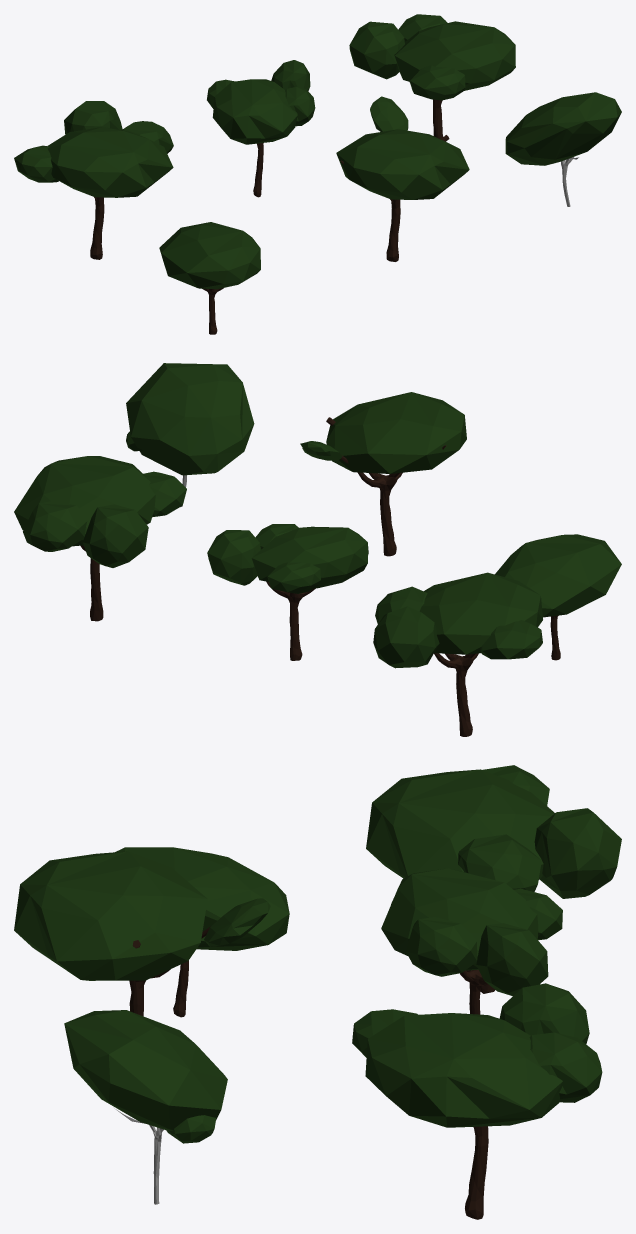
The model's file is Tree_type1_coll.FBX.
3 views of the same model, one above another, from view 1: azimuth 30°, elevation 25°; view 2: azimuth 150°, elevation 25°; view 3: azimuth 270°, elevation 25° (orthographic). The views are drawn at different scales.
Visible parts, largest first — view 1: Group64238, Group64090, Group64166, Group64161, Group64236, Group64155, Group64160, Group64163, Group64087, Group64089, Group64346, Group64157 (+5 smaller); view 2: Group64166, Group64238, Group64090, Group64236, Group64161, Group64155, Group64087, Group64160, Group64162, Group64157, Group64089, Group64156 (+7 smaller); view 3: Group64238, Group64161, Group64090, Group64166, Group64155, Group64236, Group64087, Group64157, Group64160, Group64162, Group64158, Group64088 (+8 smaller).
Part boxes in pixels (x1,y1,x2,y2): Group64238: (336, 129, 469, 199); Group64090: (47, 127, 173, 197); Group64166: (505, 92, 621, 165); Group64161: (394, 21, 515, 90); Group64236: (159, 222, 260, 289); Group64155: (212, 79, 297, 144); Group64160: (349, 21, 404, 79); Group64163: (409, 65, 465, 100); Group64087: (64, 101, 122, 134); Group64089: (14, 145, 58, 182); Group64346: (370, 96, 408, 131); Group64157: (271, 60, 310, 91); Group64166: (126, 363, 254, 475); Group64238: (326, 392, 466, 473); Group64090: (419, 572, 542, 654); Group64236: (495, 534, 621, 617); Group64161: (14, 456, 155, 546); Group64155: (251, 526, 368, 588); Group64087: (373, 606, 439, 668); Group64160: (82, 504, 148, 567); Group64162: (23, 500, 87, 551); Group64157: (207, 530, 261, 585); Group64089: (480, 620, 542, 659); Group64156: (267, 562, 320, 593); Group64238: (14, 851, 207, 980); Group64161: (365, 1013, 562, 1127); Group64090: (366, 769, 554, 879); Group64166: (64, 1010, 227, 1130); Group64155: (381, 868, 538, 970); Group64236: (115, 847, 289, 950); Group64087: (534, 808, 621, 898); Group64157: (476, 923, 548, 995); Group64160: (499, 983, 589, 1043); Group64162: (529, 1032, 602, 1102); Group64158: (406, 917, 477, 976); Group64088: (458, 834, 541, 891).
Size of the model in its own units: 2602 by 884 by 1830.
